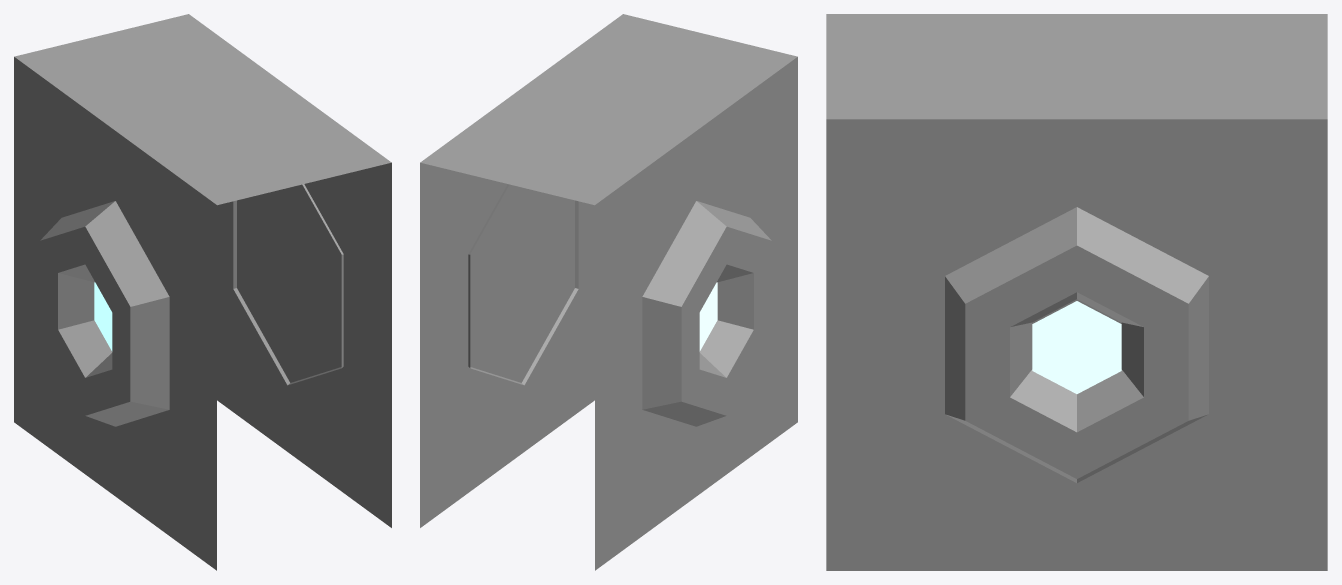
The model's file is wall_shot_piece1.fbx.
3 views of the same model, side by side, from view 1: azimuth 30°, elevation 25°; view 2: azimuth 150°, elevation 25°; view 3: azimuth 270°, elevation 25° (orthographic). The views are drawn at different scales.
Parts seen in each view (by area): view 1: wall_shot_wall, wall_shot_body1, wall_shot_body, zootonium_shot1; view 2: wall_shot_wall, wall_shot_body1, wall_shot_body, zootonium_shot1; view 3: wall_shot_wall, wall_shot_body, zootonium_shot.
Part boxes in pixels (left/top/right/bottom): wall_shot_wall: left=14, top=14, right=391, bottom=570; wall_shot_body1: left=40, top=201, right=169, bottom=426; wall_shot_body: left=233, top=184, right=343, bottom=385; zootonium_shot1: left=94, top=282, right=112, bottom=351; wall_shot_wall: left=420, top=14, right=797, bottom=570; wall_shot_body1: left=642, top=201, right=771, bottom=426; wall_shot_body: left=468, top=184, right=578, bottom=385; zootonium_shot1: left=699, top=282, right=717, bottom=351; wall_shot_wall: left=826, top=14, right=1327, bottom=570; wall_shot_body: left=945, top=207, right=1208, bottom=482; zootonium_shot: left=1032, top=301, right=1121, bottom=393.
Bounding box in the file's own units: 0.0134 × 0.02 × 0.0201.
